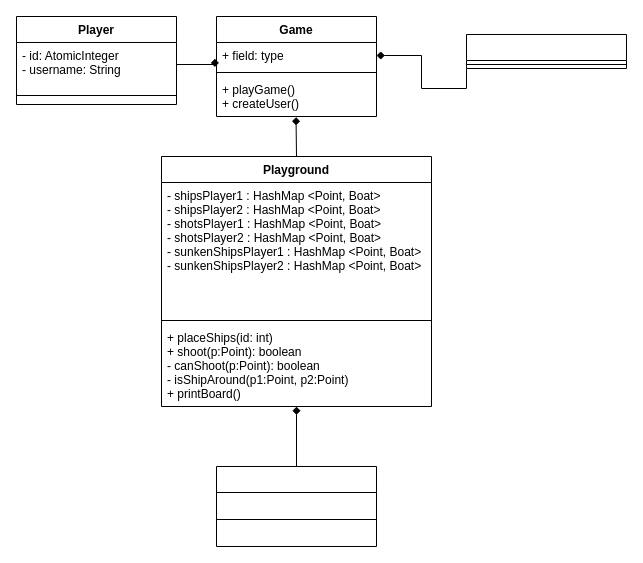
Some shapes in this 643 by 563 pixel diagram are drawn without their labels. The centre of each missing label's shape, as x and y in pixels:
Boat: point (296, 506)
Starter: point (546, 51)
